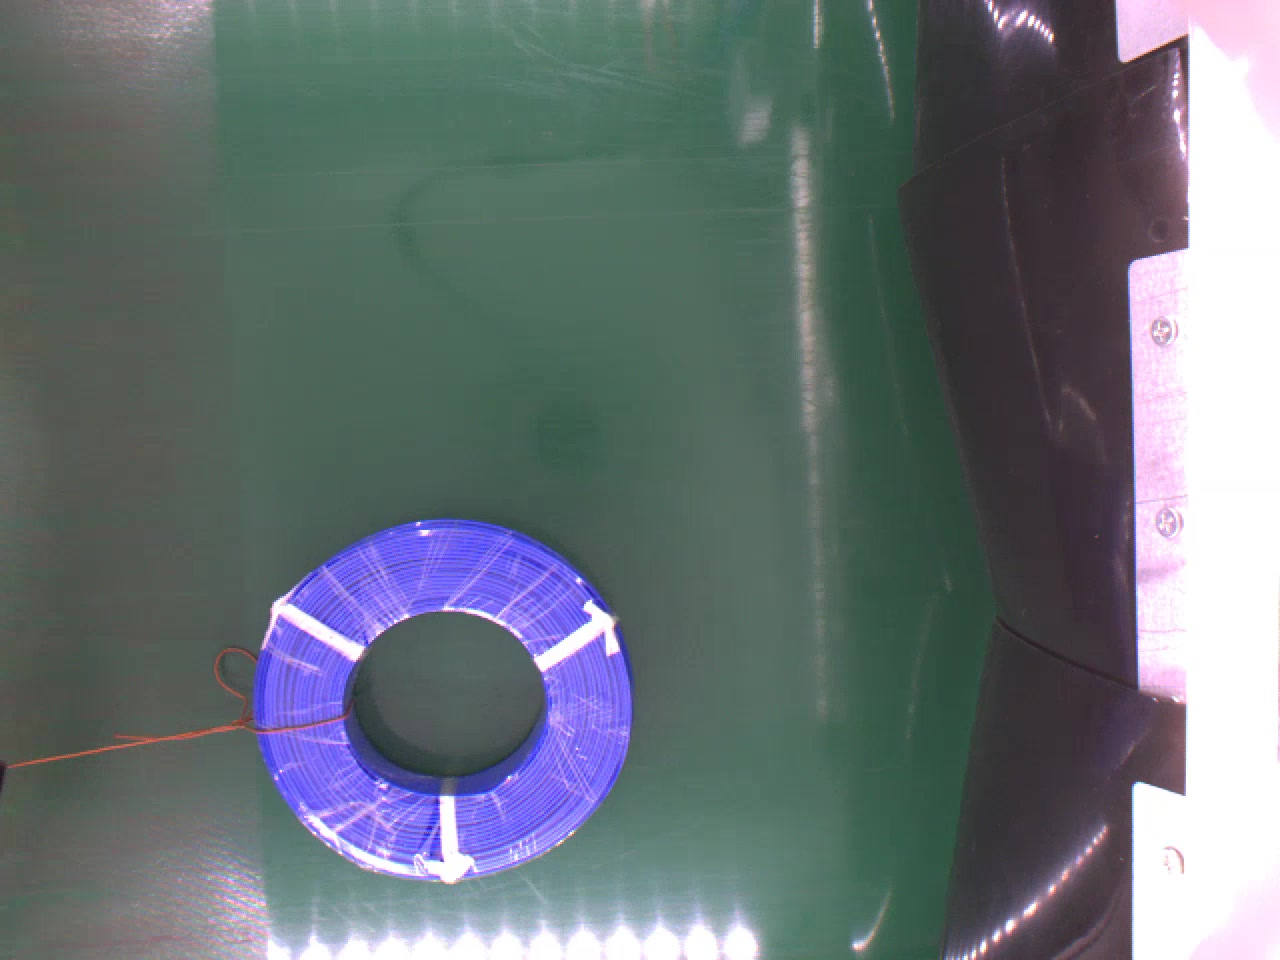blue: (249, 518, 633, 890)
